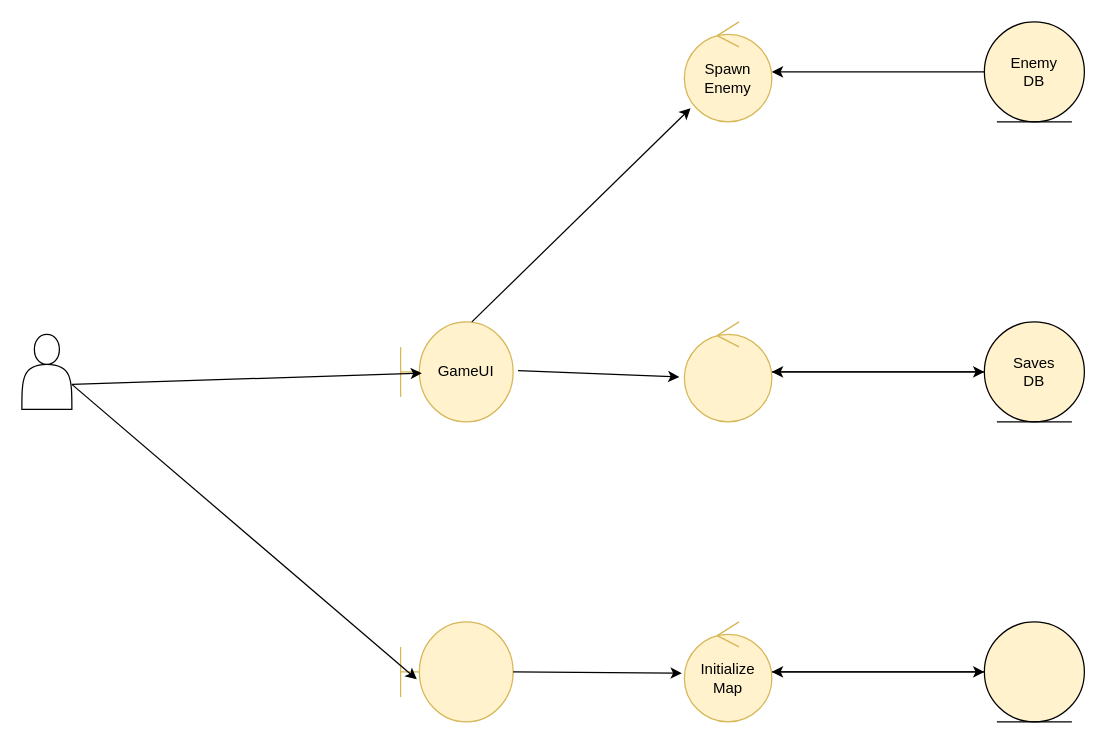
Some shapes in this 1106 by 744 pixel diagram are drawn without their labels. Each missing label, with the box of its shape:
Map DB: (983, 621, 1084, 722)
MenuUI: (399, 621, 513, 722)
Save / Load: (683, 321, 772, 422)
